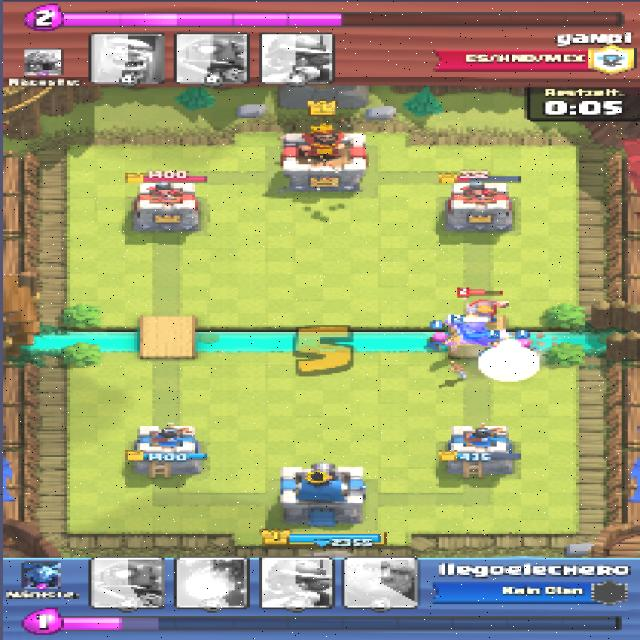Enemy-Knight: (458, 298, 508, 322)
Player-Archer: (421, 332, 453, 353), (513, 338, 541, 358)
Player-Knight: (446, 318, 499, 346)
